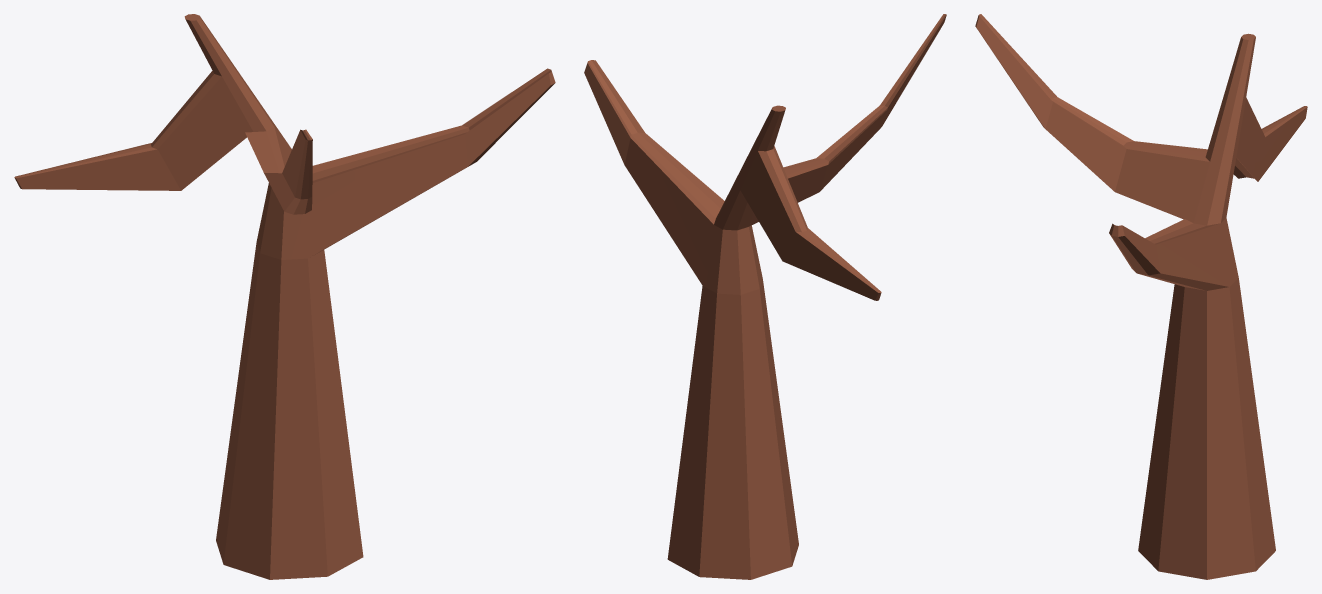
File: Bush_5_spring.fbx
3 renders of one model, left to right at view 1: azimuth 30°, elevation 25°; view 2: azimuth 150°, elevation 25°; view 3: azimuth 270°, elevation 25°, orthographic. The views are drawn at different scales.
Visible parts, largest first — view 1: Bush_5_spring; view 2: Bush_5_spring; view 3: Bush_5_spring.
Boxes of the visible parts, x1,y1,x2,y2 form: Bush_5_spring: [14, 14, 555, 579]; Bush_5_spring: [584, 14, 946, 579]; Bush_5_spring: [975, 14, 1307, 579].
Size of the model in its own units: 19.73 by 23.26 by 14.41.
